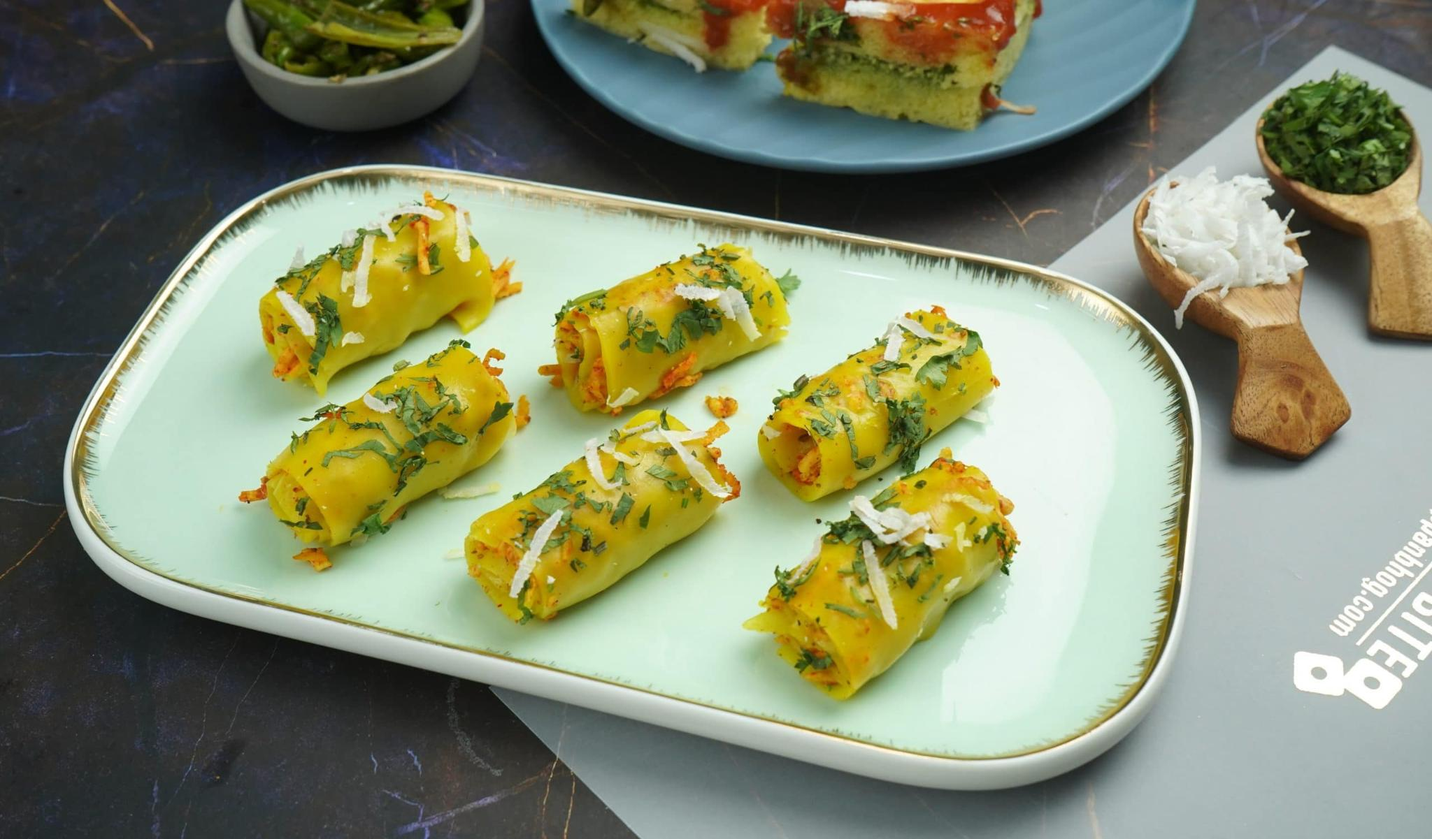khandvi: (229, 201, 1070, 682)
